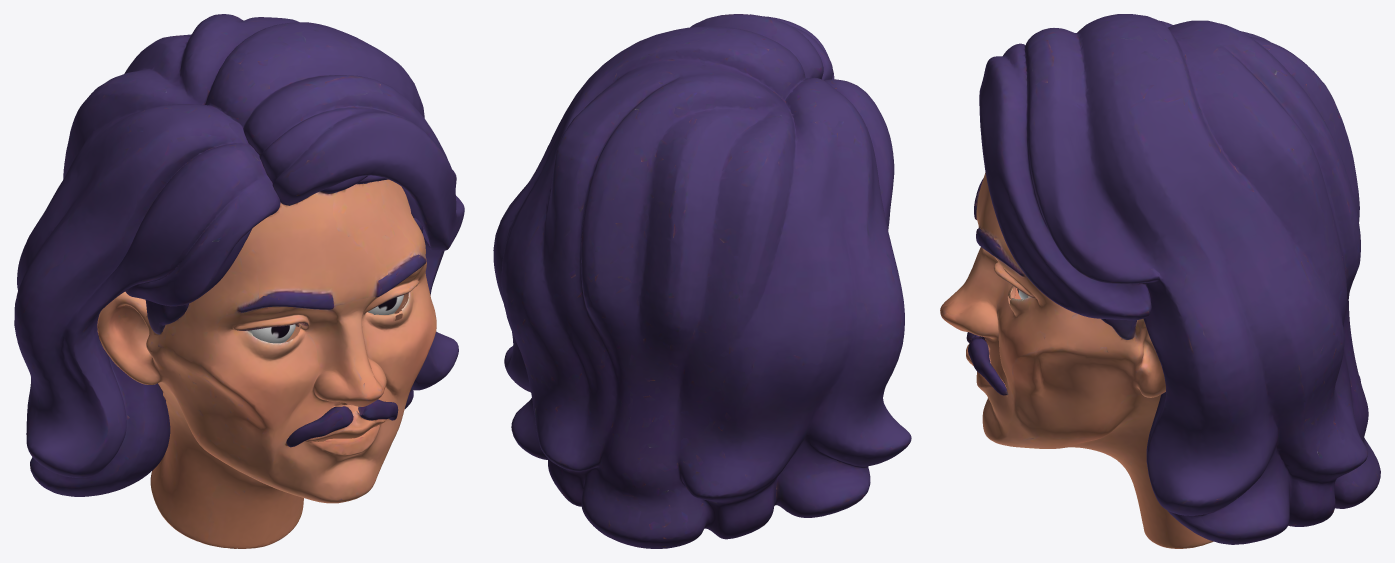
The model's file is sample_00049.glb.
3 views of the same model, side by side, from view 1: azimuth 30°, elevation 25°; view 2: azimuth 150°, elevation 25°; view 3: azimuth 270°, elevation 25° (orthographic). The views are drawn at different scales.
Parts seen in each view (by area): view 1: TopoRig_CoordinateSystem, EyeAU_CompleteBall_right; view 2: TopoRig_CoordinateSystem; view 3: TopoRig_CoordinateSystem.
Boxes of the visible parts, x1,y1,x2,y2 form: TopoRig_CoordinateSystem: (14,14,464,548); EyeAU_CompleteBall_right: (251,324,295,343); TopoRig_CoordinateSystem: (493,14,911,548); TopoRig_CoordinateSystem: (940,14,1380,548).
Size of the model in its own units: 1.63 by 1.84 by 1.44.
Materials: 3 (3 with a texture image).
